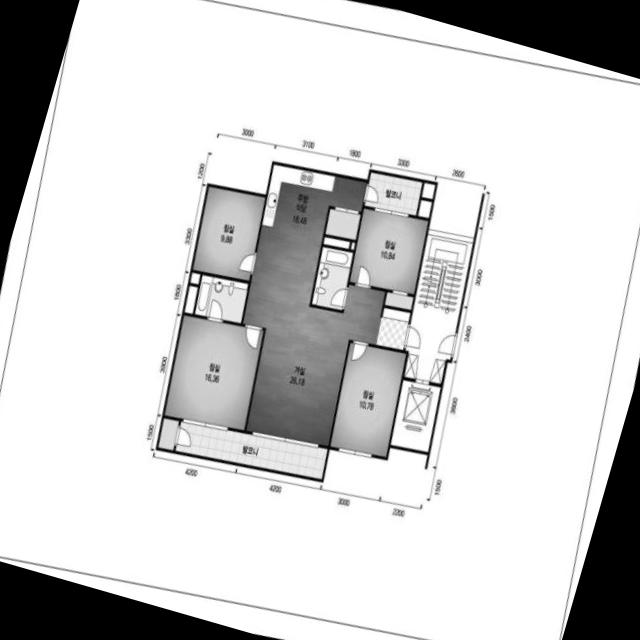background: (0, 0, 640, 640)
space_balconi: (175, 420, 327, 478), (364, 171, 422, 215)
space_bedroom: (163, 314, 263, 430), (329, 342, 405, 456), (349, 208, 427, 309), (192, 186, 264, 280)
space_elevator: (390, 379, 440, 451)
space_front: (375, 307, 410, 349)
space_kitchen: (261, 164, 366, 239)
space_living_room: (242, 225, 384, 445)
space_other: (157, 417, 178, 450), (183, 285, 197, 313), (323, 236, 349, 248), (417, 199, 431, 217), (421, 182, 434, 198), (189, 272, 199, 283), (350, 241, 354, 249)
space_staircase: (403, 234, 472, 383)
space_toilet: (194, 274, 247, 323), (311, 246, 352, 309)
